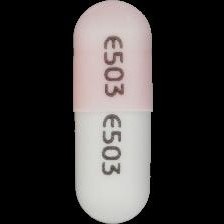60429-138: (0, 0, 224, 224)
